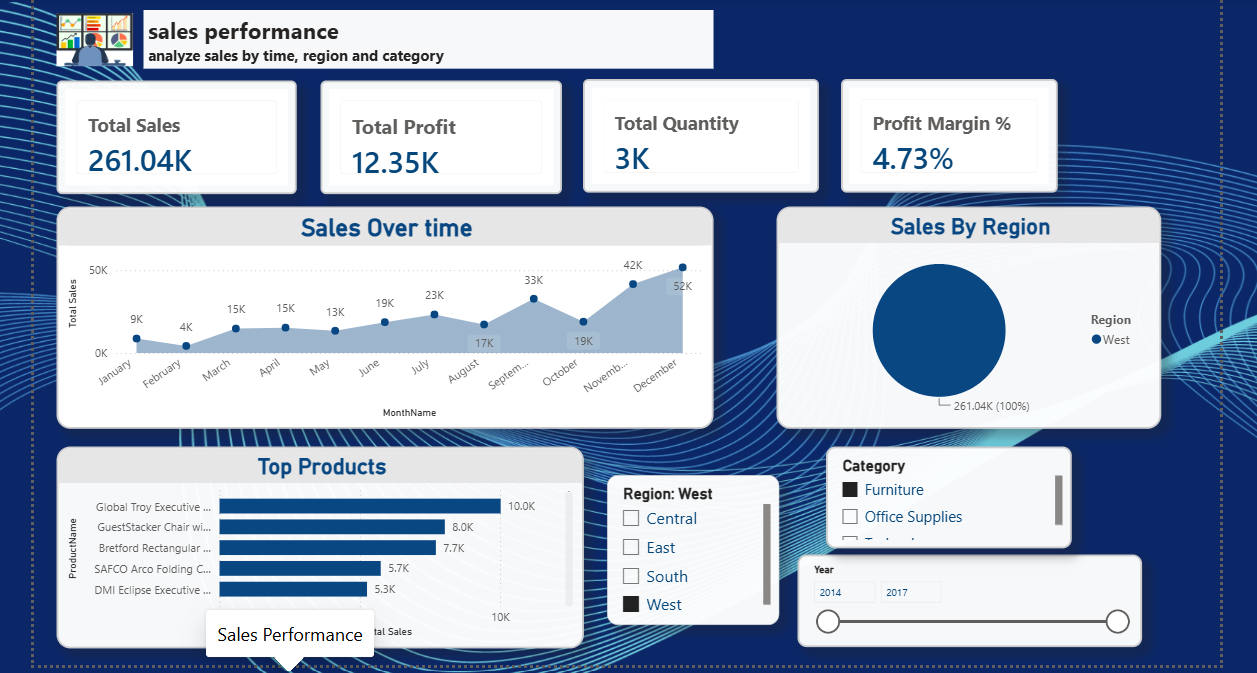

The dashboard page shown, as its layout file describes it:
{"tool":"powerbi","page":{"name":"Sales Performance","canvas":[1280,720],"ordinal":0},"visuals":[{"type":"cardVisual","fields":{"Data":["FactSales.Total Sales"]},"box":[23.9,89.1,259.3,122.5],"z":0},{"type":"cardVisual","fields":{"Data":["FactSales.Total Profit"]},"box":[308.6,89.1,260.9,122.5],"z":1000},{"type":"cardVisual","fields":{"Data":["FactSales.Total Quantity"]},"box":[593.3,87.5,254.5,122.5],"z":2000},{"type":"lineChart","title":"Sales Over time","fields":{"Y":["FactSales.Total Sales"],"Category":["DimDate.MonthName"]},"box":[23.9,224.3,709.4,240.2],"z":3000},{"type":"barChart","title":"Top Products","fields":{"Category":["DimProduct.ProductName"],"Y":["FactSales.Total Sales"]},"box":[23.9,483.5,569.4,217.9],"z":4000},{"type":"pieChart","title":"Sales By Region","fields":{"Category":["DimLocation.Region"],"Y":["FactSales.Total Sales"]},"box":[801.7,224.3,415.1,240.2],"z":5000},{"type":"slicer","fields":{"Values":["DimDate.Year"]},"box":[823.9,601.3,372.2,100.2],"z":6000},{"type":"slicer","fields":{"Values":["DimProduct.Category"]},"box":[855.7,483.5,265.6,109.8],"z":7000},{"type":"slicer","fields":{"Values":["DimLocation.Region"]},"box":[618.7,515.4,186.1,162.2],"z":8000},{"type":"cardVisual","fields":{"Data":["FactSales.Profit Margin %"]},"box":[871.7,87.5,233.8,122.5],"z":9000},{"type":"textbox","box":[117.7,12.7,615.6,63.6],"z":10000},{"type":"image","box":[23.9,12.7,82.7,63.6],"z":11000}]}

Visuals, with their boxes in screenshot pixels (x1, y1, x2, y2):
cardVisual - FactSales.Total Sales: locate(55, 79, 294, 192)
cardVisual - FactSales.Total Profit: locate(318, 79, 559, 192)
cardVisual - FactSales.Total Quantity: locate(581, 78, 816, 191)
"Sales Over time" lineChart: locate(55, 204, 710, 426)
"Top Products" barChart: locate(55, 443, 581, 645)
"Sales By Region" pieChart: locate(773, 204, 1157, 426)
slicer - DimDate.Year: locate(794, 552, 1137, 645)
slicer - DimProduct.Category: locate(823, 443, 1068, 545)
slicer - DimLocation.Region: locate(604, 473, 776, 623)
cardVisual - FactSales.Profit Margin %: locate(838, 78, 1054, 191)
textbox: locate(141, 8, 710, 67)
image: locate(55, 8, 131, 67)
